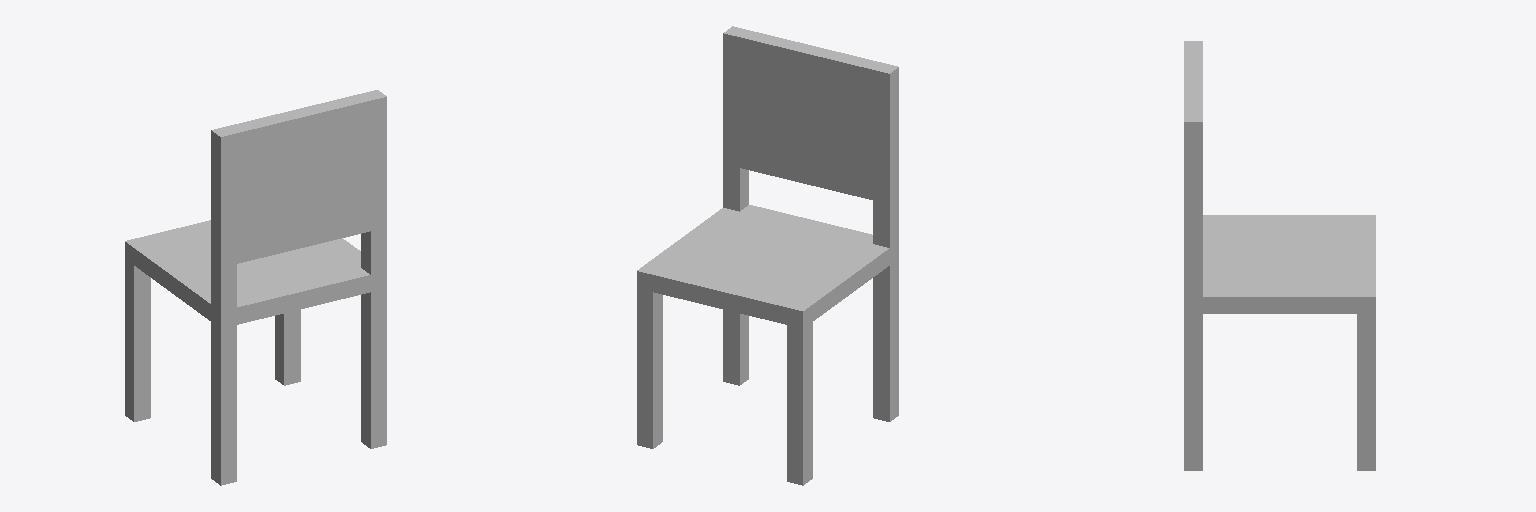
File: chair.obj
3 renders of one model, left to right at view 1: azimuth 30°, elevation 25°; view 2: azimuth 150°, elevation 25°; view 3: azimuth 270°, elevation 25°, orthographic.
Bounding box in the file's own units: 1 × 2 × 1.